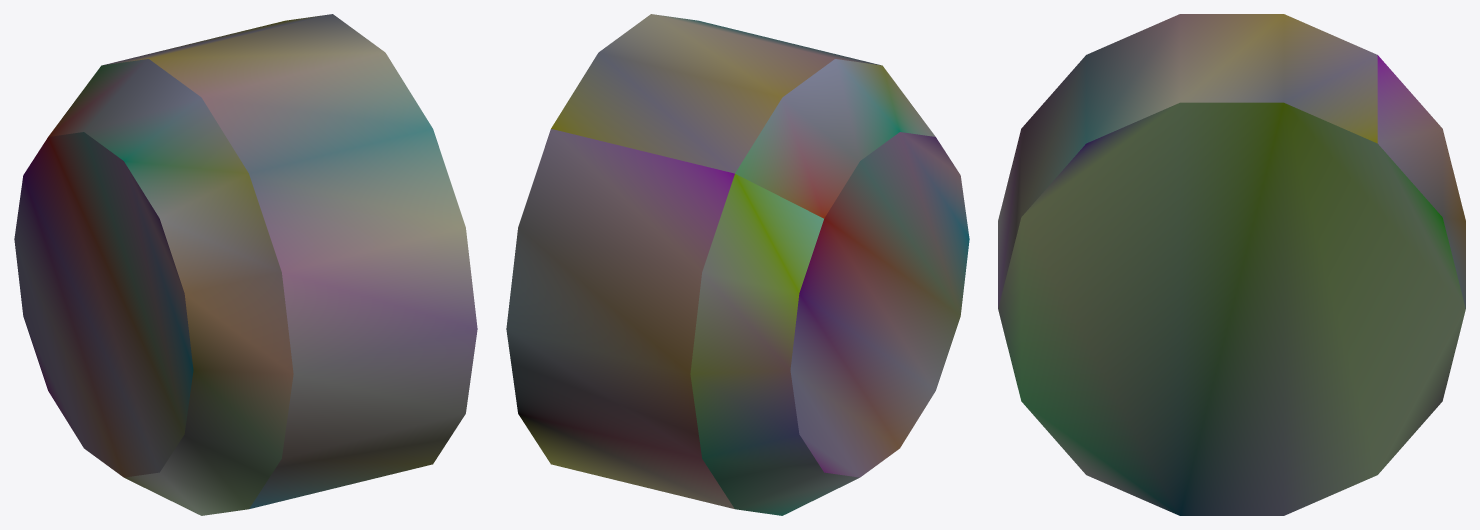
Rendered from S_WEP_FX_ShotgunCasing_C.gltf.
3 views of the same model, side by side, from view 1: azimuth 30°, elevation 25°; view 2: azimuth 150°, elevation 25°; view 3: azimuth 270°, elevation 25° (orthographic).
Parts seen in each view (by area): view 1: S_WEP_FX_ShotgunCasing_C; view 2: S_WEP_FX_ShotgunCasing_C; view 3: S_WEP_FX_ShotgunCasing_C.
Boxes of the visible parts, x1,y1,x2,y2 form: S_WEP_FX_ShotgunCasing_C: (14, 14, 477, 515); S_WEP_FX_ShotgunCasing_C: (506, 14, 969, 515); S_WEP_FX_ShotgunCasing_C: (998, 14, 1465, 515).
Bounding box in the file's own units: 0.0075 × 0.0117 × 0.0121.
